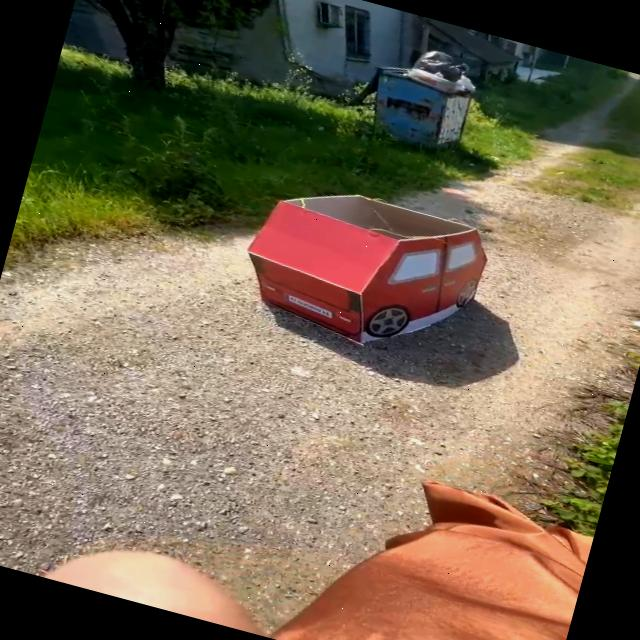red_car: (179, 139, 526, 397)
